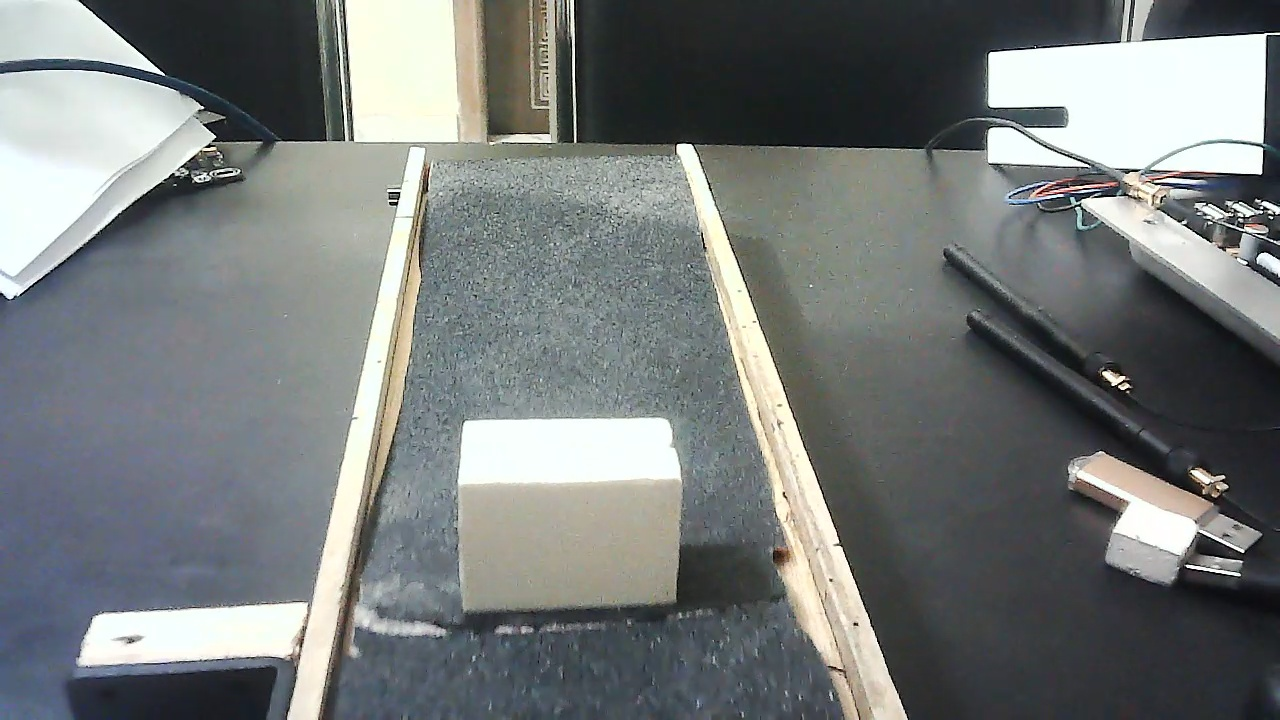BIG: (457, 399, 683, 625)
